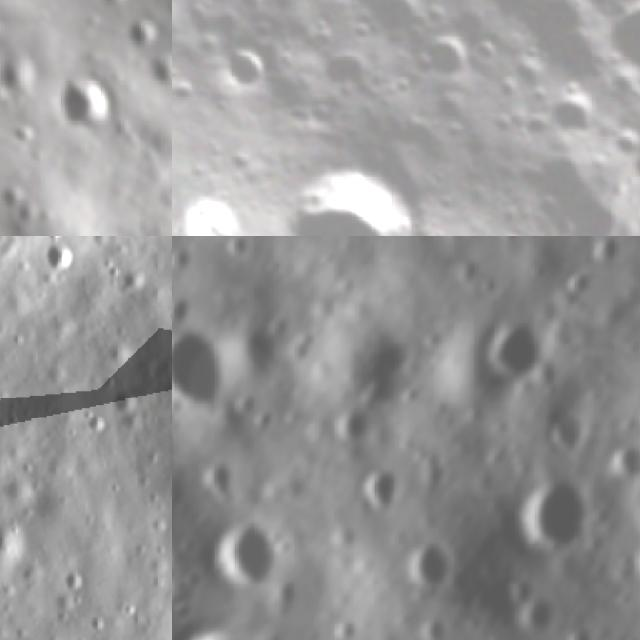crater: (245, 130, 439, 236), (497, 458, 600, 552), (172, 312, 240, 425), (38, 53, 124, 140), (198, 508, 291, 587), (576, 0, 640, 102), (520, 143, 600, 220), (480, 309, 550, 390), (410, 23, 484, 99), (312, 35, 386, 109), (543, 76, 615, 149), (354, 0, 445, 54), (396, 529, 467, 595), (213, 37, 279, 104), (506, 575, 573, 640), (352, 448, 409, 519), (531, 402, 593, 453), (112, 0, 166, 51), (133, 33, 172, 93), (203, 1, 249, 47), (32, 236, 78, 279), (0, 516, 30, 576), (466, 33, 508, 74), (172, 0, 199, 61), (103, 382, 141, 421), (53, 562, 90, 599), (227, 0, 276, 27), (172, 241, 202, 281), (80, 409, 112, 444), (220, 236, 256, 262), (624, 62, 640, 107)
